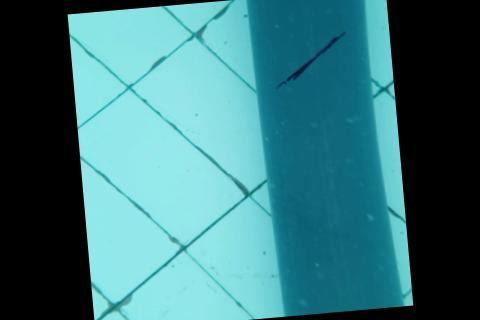keretakan: (275, 30, 351, 86)
